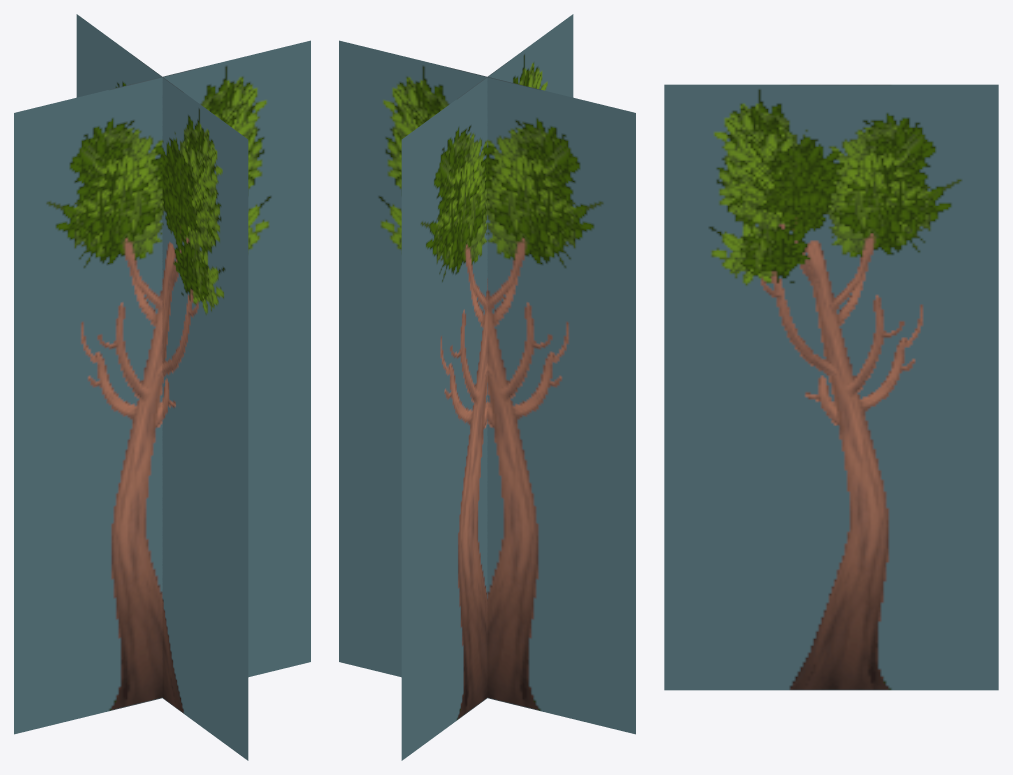
Rendered from commontree_4_3.glb.
3 renders of one model, left to right at view 1: azimuth 30°, elevation 25°; view 2: azimuth 150°, elevation 25°; view 3: azimuth 270°, elevation 25°, orthographic. The views are drawn at different scales.
Parts seen in each view (by area): view 1: commontree_4; view 2: commontree_4; view 3: commontree_4.
Boxes of the visible parts, bbox=[...] form: commontree_4: bbox=[14, 14, 310, 760]; commontree_4: bbox=[339, 14, 635, 760]; commontree_4: bbox=[664, 84, 998, 690].
Bounding box in the file's own units: 4.72 × 9.44 × 4.72.
Materials: 1 (1 with a texture image).
